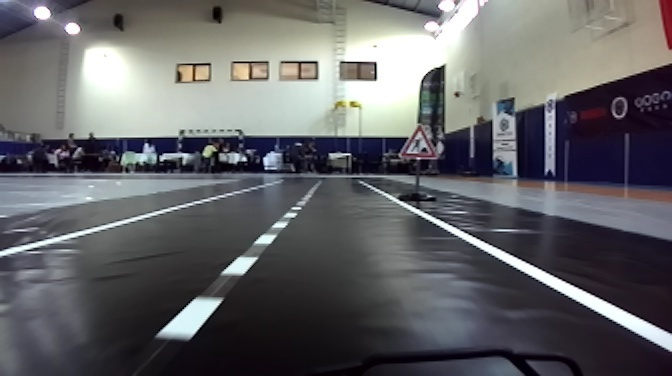yol_yapimi: (393, 120, 441, 164)
